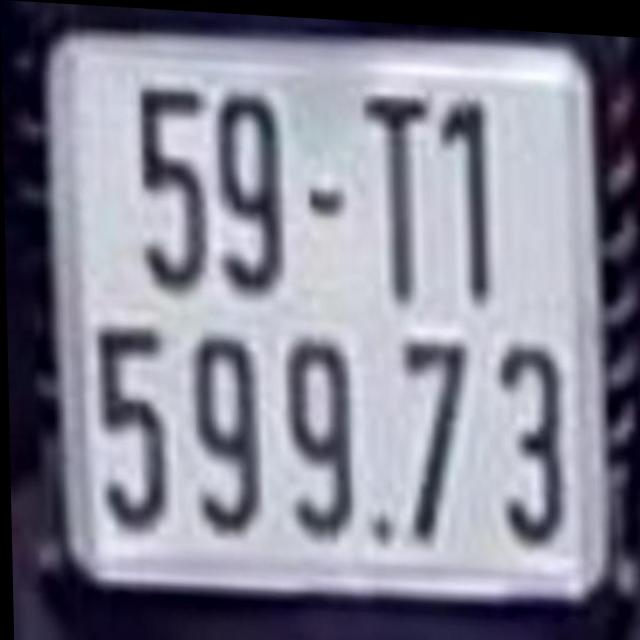1: (441, 83, 495, 299)
3: (494, 329, 568, 546)
5: (93, 325, 172, 528), (136, 78, 210, 292)
7: (396, 328, 474, 538)
9: (187, 328, 270, 537), (216, 89, 289, 290), (284, 331, 354, 540)
T: (364, 85, 445, 305)
